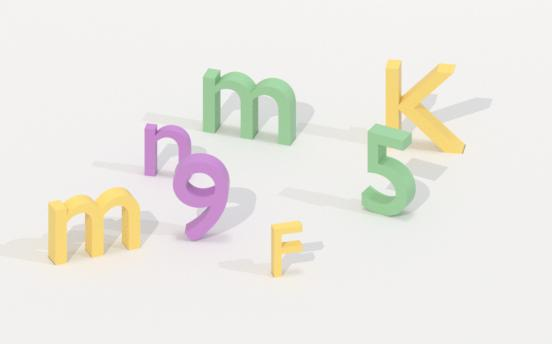5: (358, 120, 419, 220)
9: (171, 148, 237, 243)
F: (266, 217, 306, 280)
k: (373, 56, 469, 160)
m: (196, 60, 303, 148), (43, 186, 144, 266)
n: (141, 119, 196, 183)
